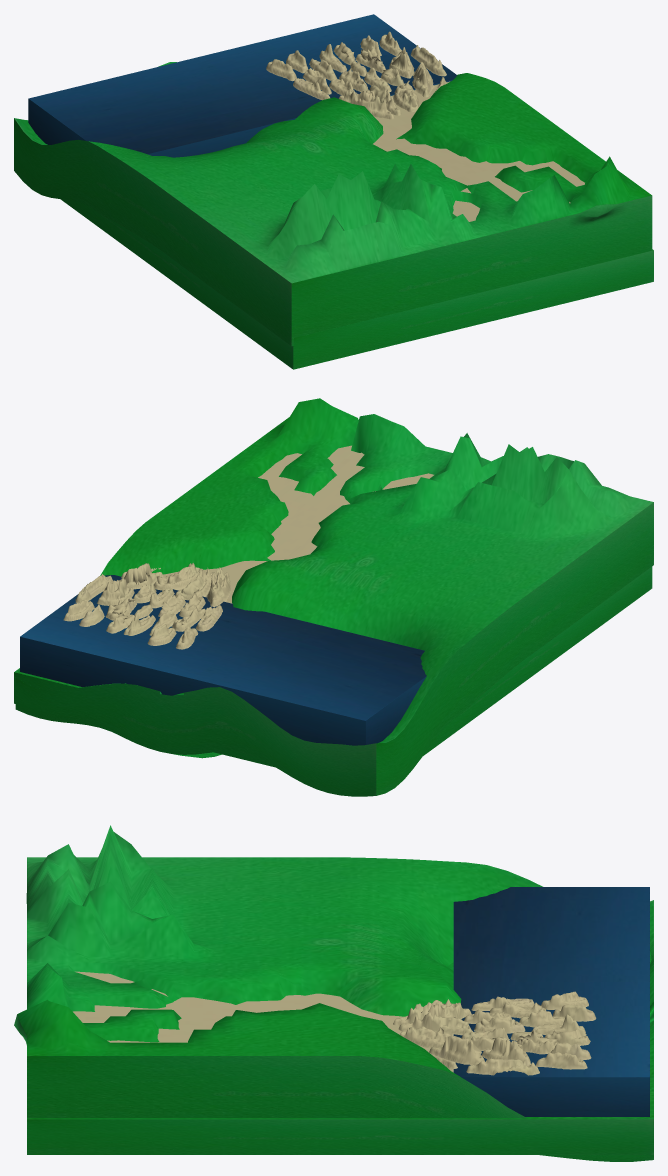
Rendered from 指形三角洲.gltf.
The picture shows the model from 3 angles, top to bottom: view 1: azimuth 30°, elevation 25°; view 2: azimuth 150°, elevation 25°; view 3: azimuth 270°, elevation 25°; orthographic projection. The views are drawn at different scales.
Visible parts, largest first — view 1: node_Box002_-5704, node_Box005_-5708, node_Box003_-5706, node_Plane001_-5714, node_Box006_-5710; view 2: node_Box002_-5704, node_Box005_-5708, node_Plane001_-5714, node_Box006_-5710, node_Box003_-5706; view 3: node_Box002_-5704, node_Box005_-5708, node_Box003_-5706, node_Plane001_-5714, node_Box006_-5710.
Part boxes in pixels (box(x1,y1,x2,y2)): node_Box002_-5704: box(14, 62, 652, 346); node_Box005_-5708: box(28, 14, 457, 157); node_Box003_-5706: box(61, 199, 653, 369); node_Plane001_-5714: box(266, 31, 449, 119); node_Box006_-5710: box(373, 88, 584, 221); node_Box002_-5704: box(15, 398, 653, 796); node_Box005_-5708: box(20, 575, 426, 745); node_Plane001_-5714: box(63, 563, 232, 649); node_Box006_-5710: box(163, 445, 433, 601); node_Box003_-5706: box(14, 566, 652, 767); node_Box002_-5704: box(14, 825, 653, 1161); node_Box005_-5708: box(453, 887, 649, 1116); node_Box003_-5706: box(27, 952, 653, 1154); node_Plane001_-5714: box(393, 991, 596, 1075); node_Box006_-5710: box(73, 971, 430, 1052).
Size of the model in its own units: 1.53 by 0.7374 by 2.07.
